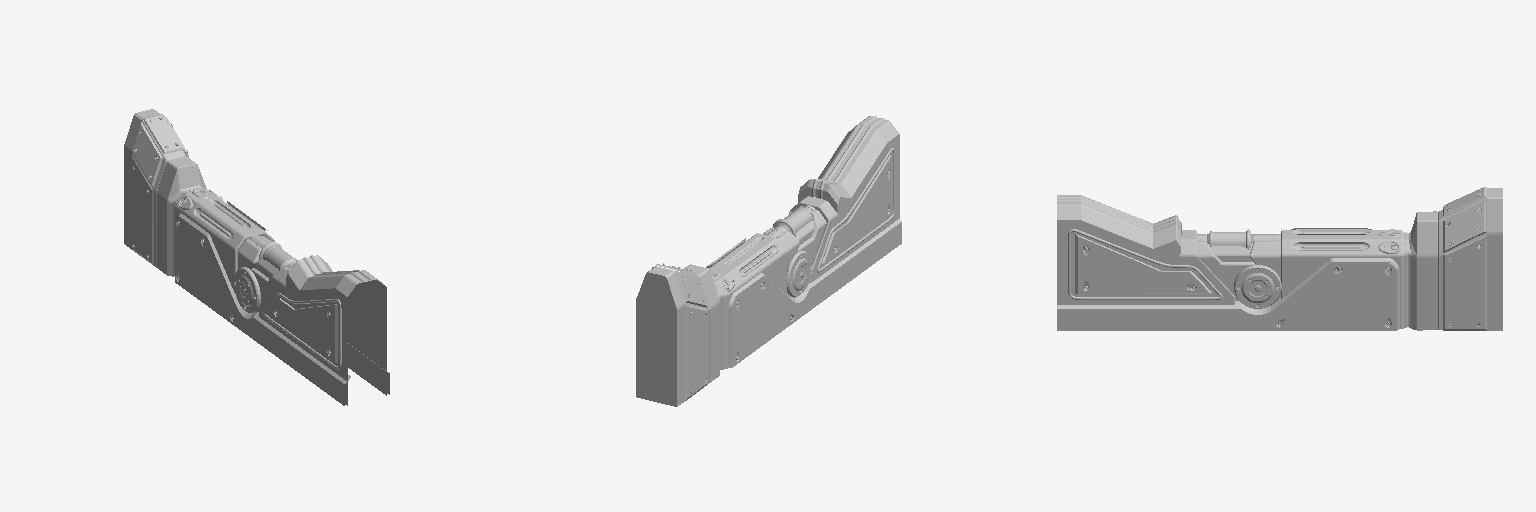
The model's file is pillar_high.obj.
The picture shows the model from 3 angles: view 1: azimuth 30°, elevation 25°; view 2: azimuth 150°, elevation 25°; view 3: azimuth 270°, elevation 25°; orthographic projection.
Visible parts, largest first — view 1: pillarHigh_pillarhHigh; view 2: pillarHigh_pillarhHigh; view 3: pillarHigh_pillarhHigh.
Part boxes in pixels (left/top/right/bottom): pillarHigh_pillarhHigh: left=124, top=109, right=389, bottom=405; pillarHigh_pillarhHigh: left=636, top=116, right=901, bottom=406; pillarHigh_pillarhHigh: left=1057, top=187, right=1502, bottom=330.
Bounding box in the file's own units: 2.48 × 6.29 × 19.72.